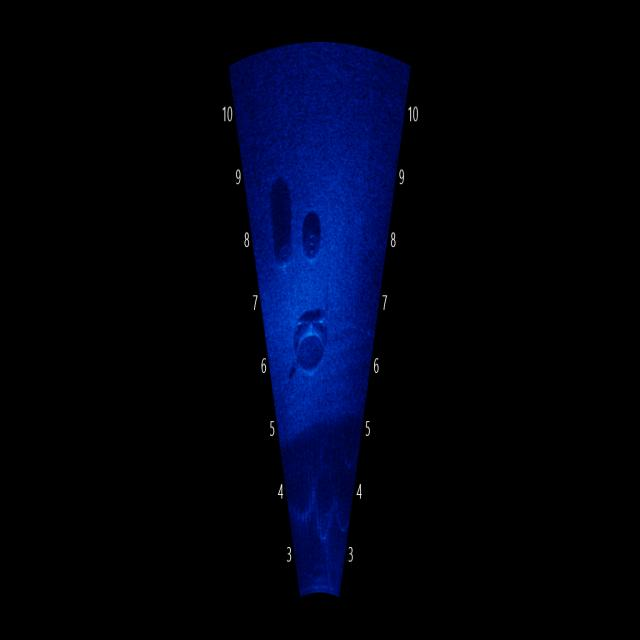circle: (289, 300, 337, 391), (295, 210, 334, 263), (268, 215, 300, 278)
